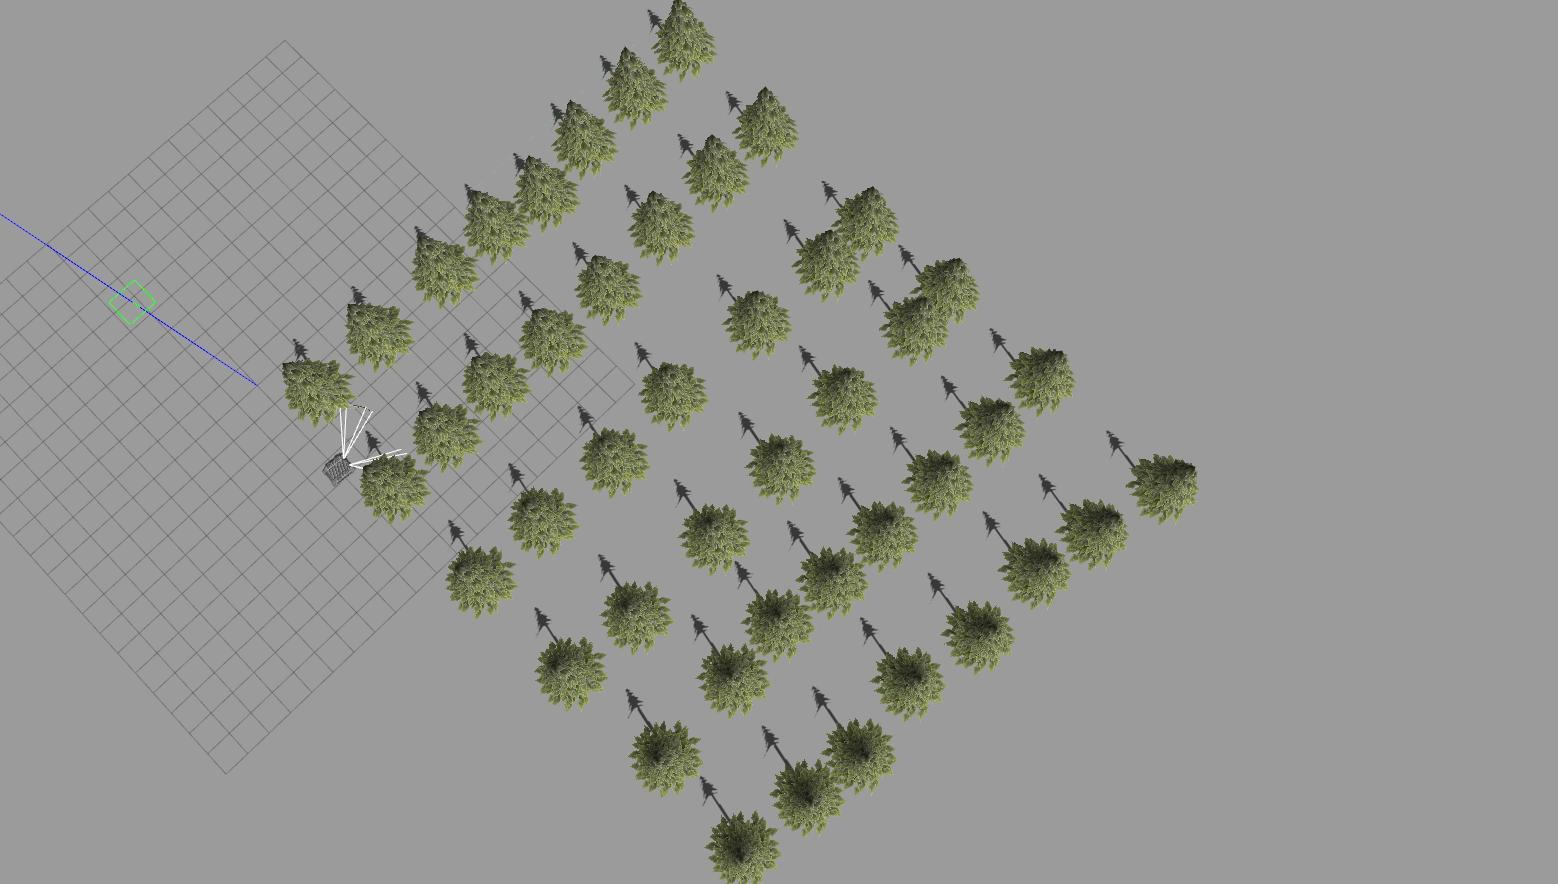tree_gazebo: (411, 228, 477, 307), (998, 538, 1071, 609), (1126, 454, 1198, 523), (602, 48, 667, 126), (873, 649, 944, 719), (602, 581, 672, 653), (1056, 499, 1129, 567), (465, 185, 530, 262), (733, 88, 797, 165), (535, 639, 606, 708), (794, 228, 861, 301), (447, 548, 517, 618), (956, 396, 1025, 466), (944, 603, 1013, 672), (743, 591, 812, 660), (282, 360, 356, 425), (554, 101, 617, 177), (746, 436, 815, 504), (904, 451, 974, 519), (639, 362, 709, 429), (834, 185, 898, 259), (515, 155, 578, 230), (575, 256, 642, 325), (724, 289, 791, 360), (685, 137, 749, 210), (809, 365, 876, 433), (654, 0, 715, 75), (520, 307, 587, 375), (1007, 347, 1074, 414), (849, 502, 916, 569), (508, 490, 578, 555), (630, 192, 693, 263), (362, 456, 429, 522), (581, 429, 648, 496), (347, 304, 414, 369), (462, 353, 530, 418), (414, 405, 480, 470)
